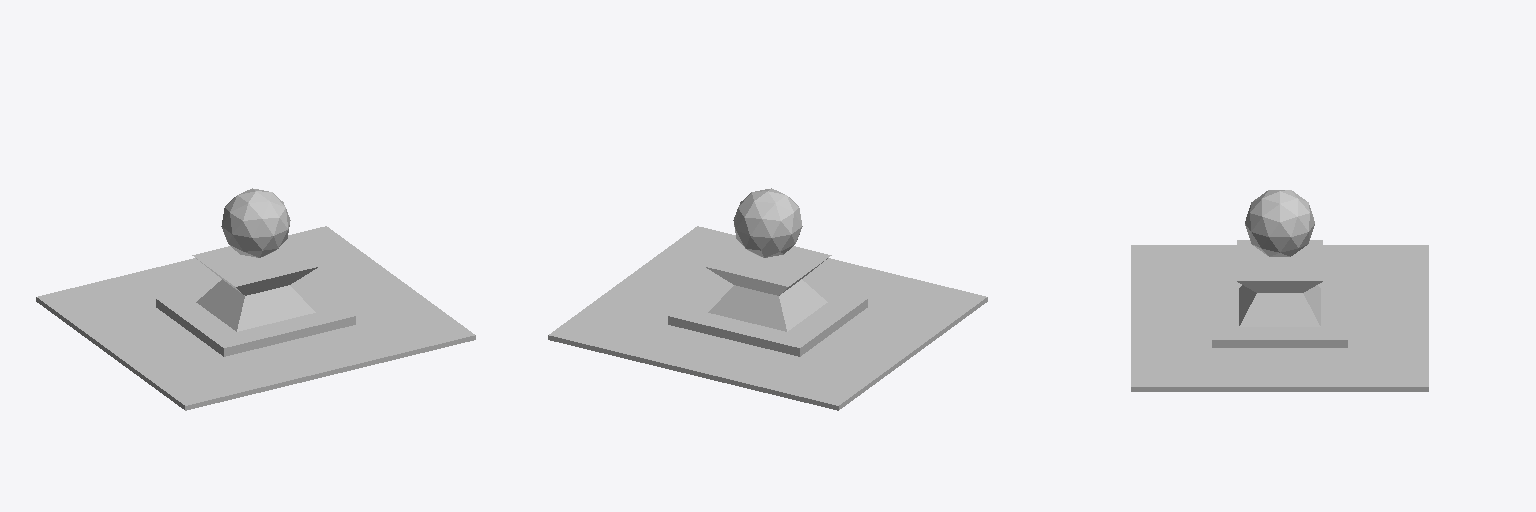
The model's file is wackyeyeballzone.obj.
3 renders of one model, left to right at view 1: azimuth 30°, elevation 25°; view 2: azimuth 150°, elevation 25°; view 3: azimuth 270°, elevation 25°, orthographic.
Visible parts, largest first — view 1: Cube; view 2: Cube; view 3: Cube.
Part boxes in pixels (left/top/right/bottom): Cube: left=36, top=188, right=475, bottom=410; Cube: left=548, top=188, right=987, bottom=410; Cube: left=1131, top=190, right=1428, bottom=391.
Size of the model in its own units: 45.82 by 19.55 by 40.78.